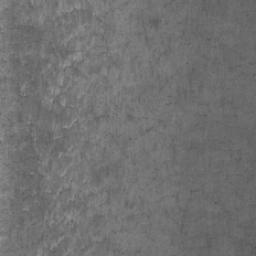Silk spot: (0, 0, 256, 256), (236, 0, 256, 32), (201, 0, 227, 16), (164, 0, 188, 11)
